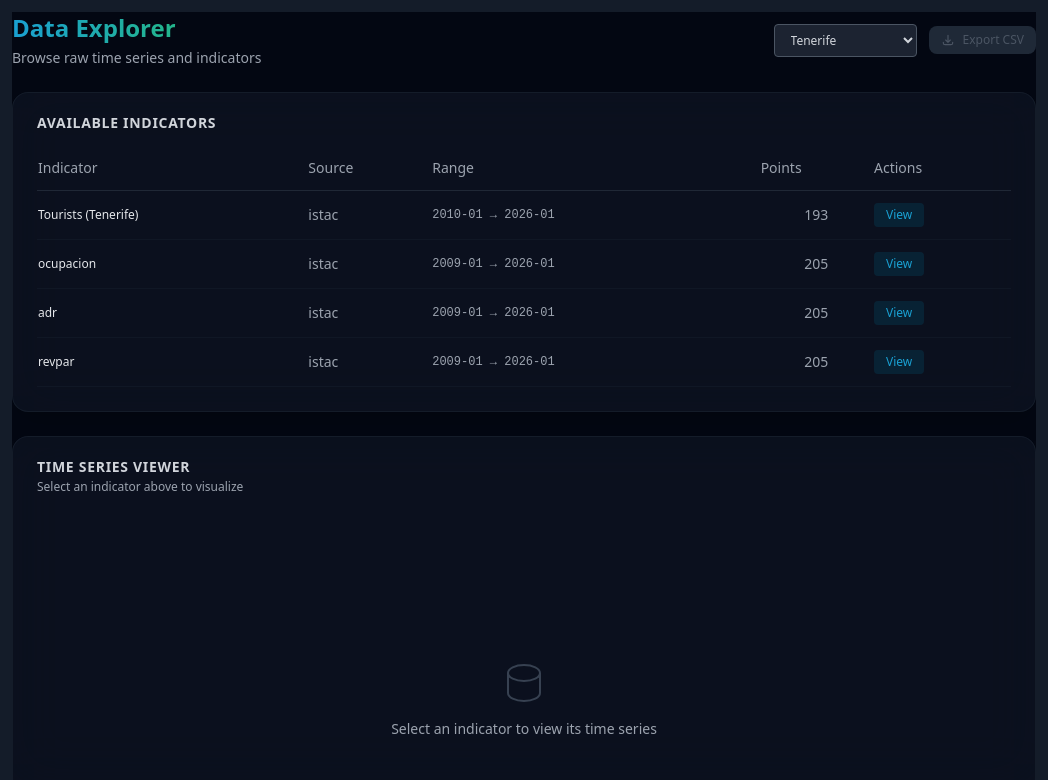
Test case: DataExplorerPage › shows clear selection button when indicators are selected
Expected: the button "clear selection" is not shown
What coordinates should you click on to do the following:
click the button "View" in the row of "Tourists (Tenerife)"
I would click on:
 (899, 215)
Its box is [874,203,924,227].
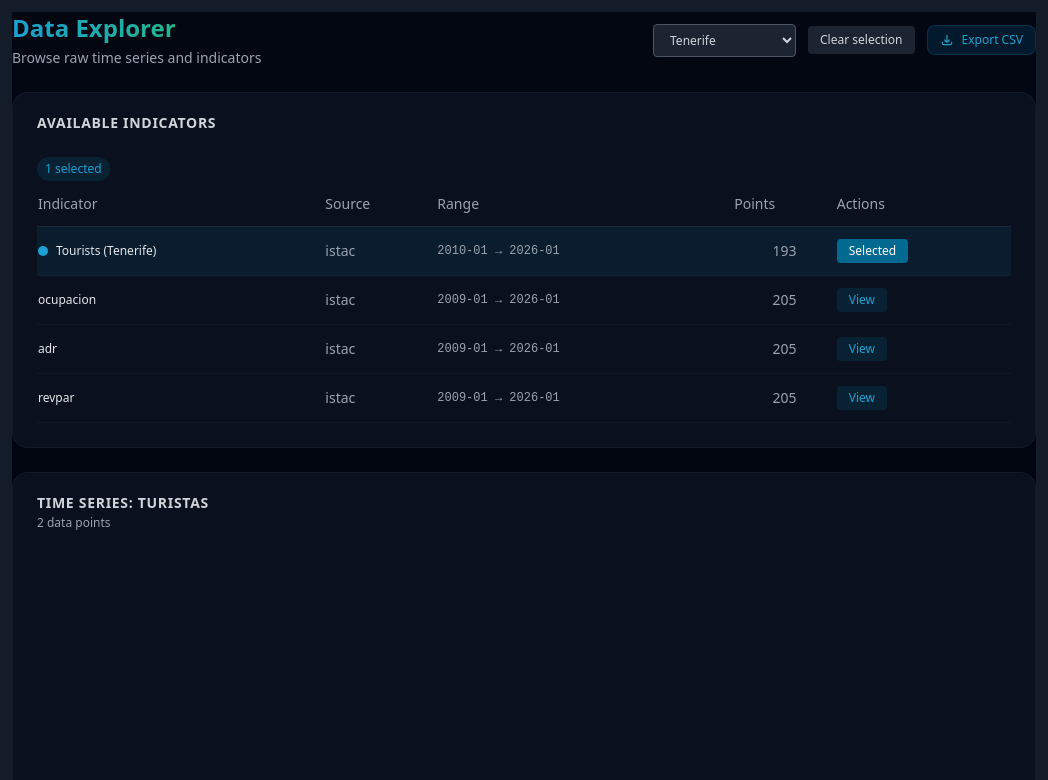
Result: the button "Clear selection" is shown at [808,26,914,54]
